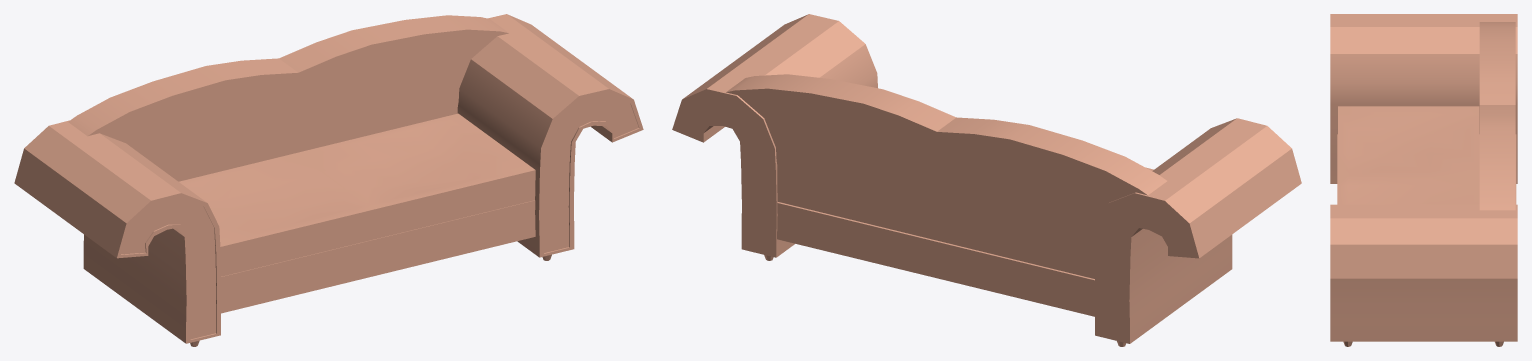
The model's file is sofa_textured_simur.fbx.
3 renders of one model, left to right at view 1: azimuth 30°, elevation 25°; view 2: azimuth 150°, elevation 25°; view 3: azimuth 270°, elevation 25°, orthographic. The views are drawn at different scales.
Visible parts, largest first — view 1: curve4; view 2: curve4; view 3: curve4.
Boxes of the visible parts, x1,y1,x2,y2 form: curve4: [14, 14, 643, 346]; curve4: [672, 14, 1301, 346]; curve4: [1330, 14, 1517, 346].
Bounding box in the file's own units: 190 × 64.5 × 63.95.
